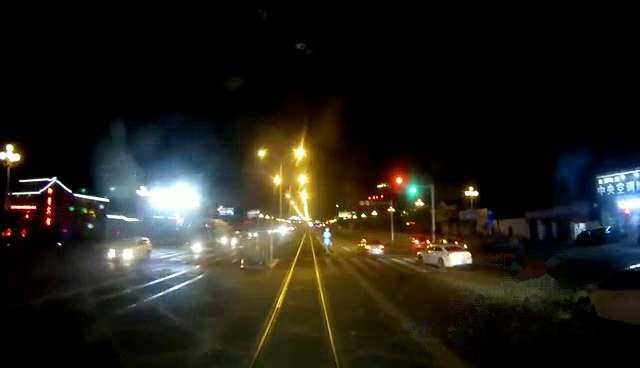car: (104, 238, 156, 264), (415, 243, 468, 266), (352, 240, 388, 258)
